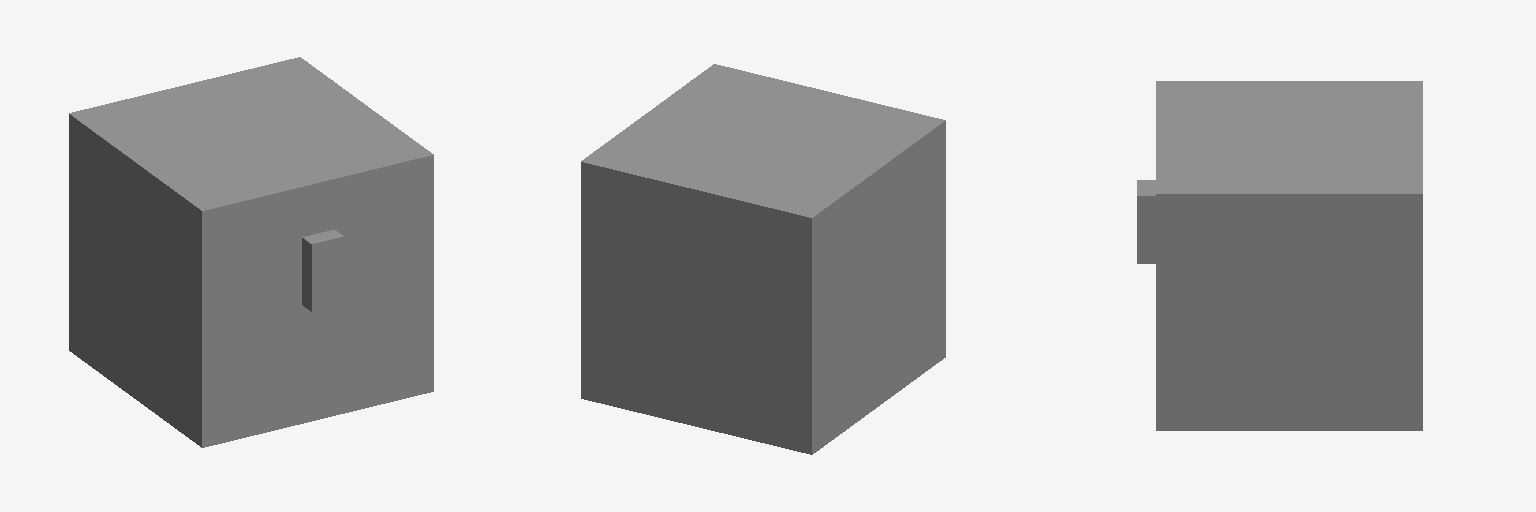
Rendered from chest.obj.
3 renders of one model, left to right at view 1: azimuth 30°, elevation 25°; view 2: azimuth 150°, elevation 25°; view 3: azimuth 270°, elevation 25°, orthographic.
Parts seen in each view (by area): view 1: Chest_0_Cube.002; view 2: Chest_0_Cube.002; view 3: Chest_0_Cube.002.
Part boxes in pixels (x1,y1,x2,y2): Chest_0_Cube.002: (69, 57, 433, 447); Chest_0_Cube.002: (581, 64, 945, 454); Chest_0_Cube.002: (1137, 81, 1422, 430).
Size of the model in its own units: 1.8 by 1.76 by 1.93.